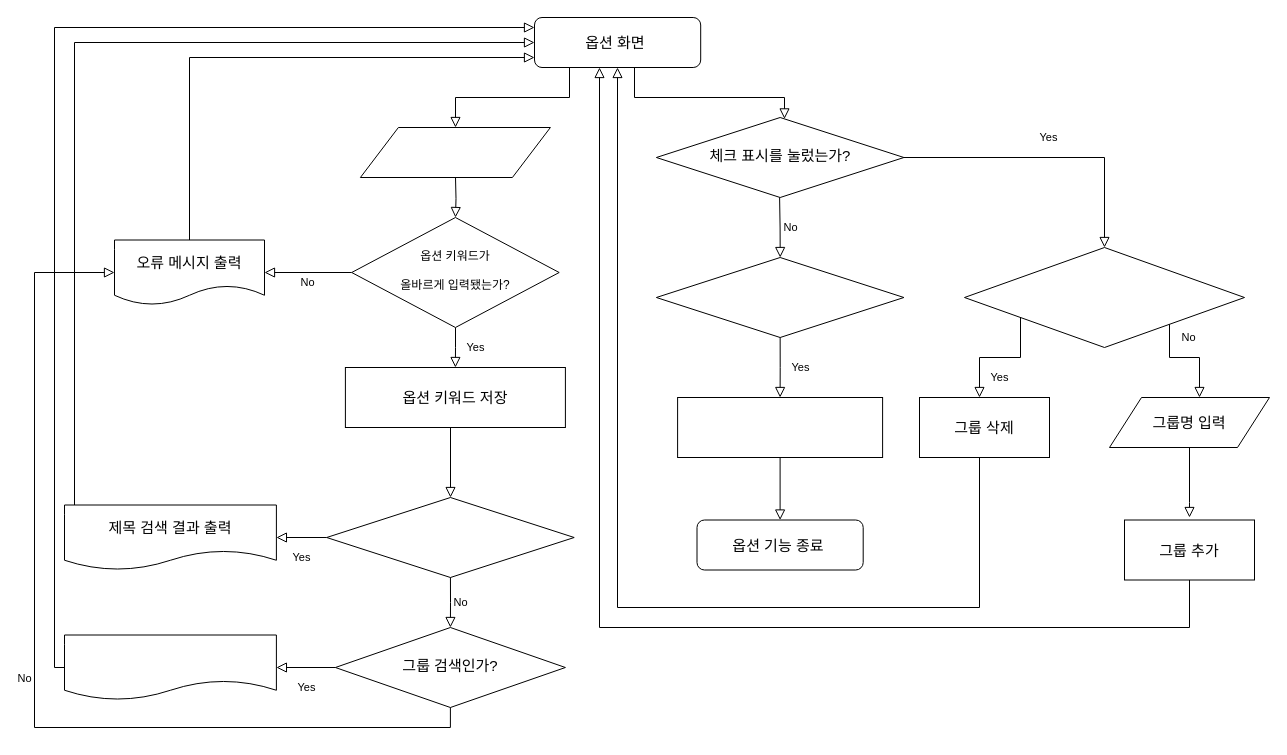
The diagram is 1287 pixels wide and 755 high, and some of its shapes have lost their labels. Here are the shapes that lost their labels. From the top down, the centre of each, then its label:
the point at 454,152: 옵션 키워드 입력
the point at 779,297: 제목, 썸네일을 눌렀는가?
the point at 1104,297: 체크 표시가 되어 있는 상태에서 눌렀는가?
the point at 780,427: 동영상 실행 화면으로 전환
the point at 450,537: 제목 검색인가?
the point at 170,667: 그룹명 검색 결과 출력
